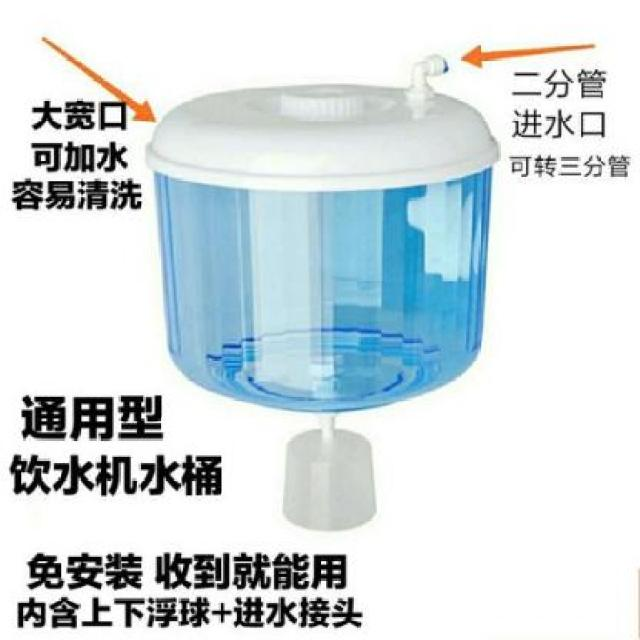coolerbottle: (142, 77, 502, 416)
